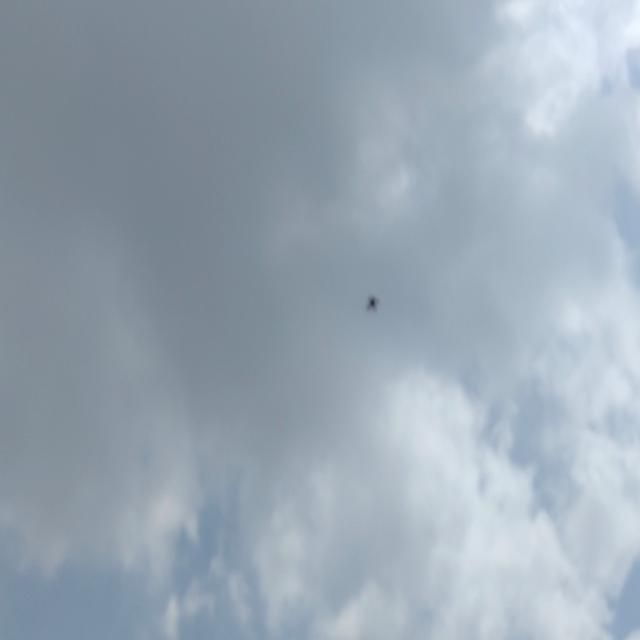drone: (360, 280, 389, 326)
